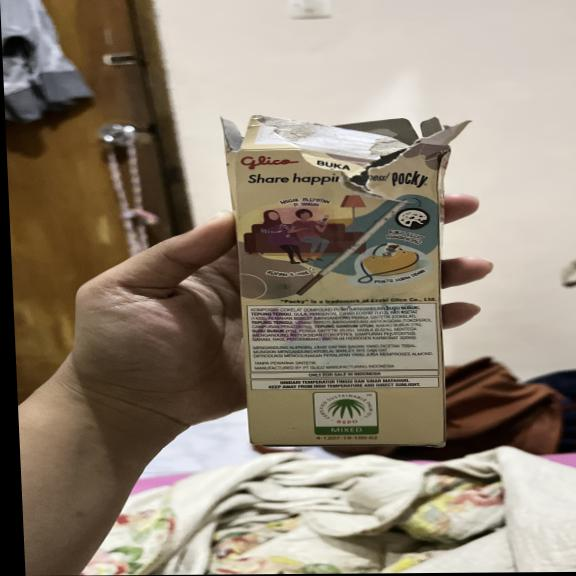Kertas: (235, 151, 449, 448)
